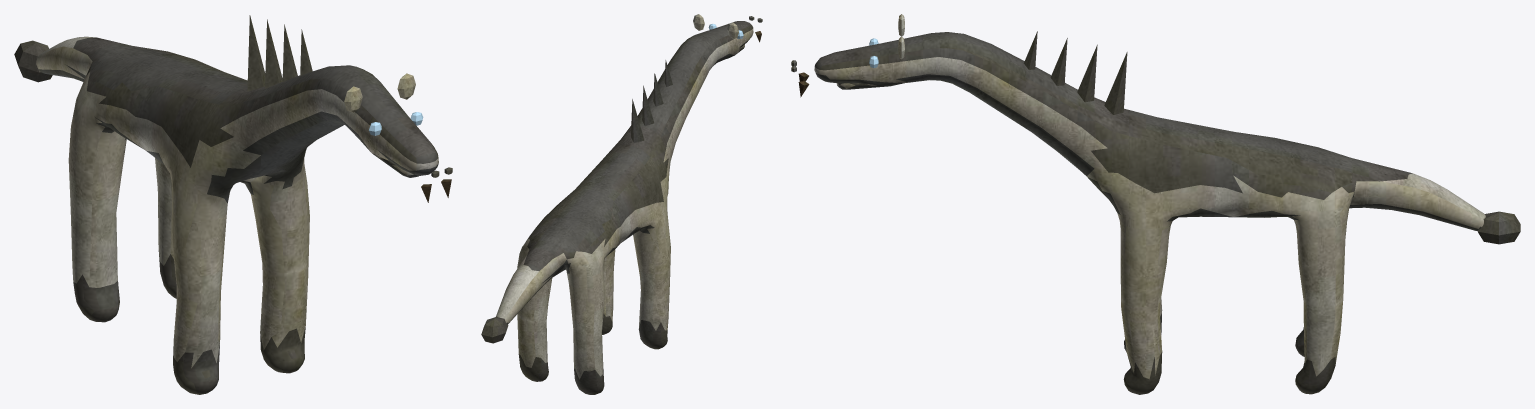
The model's file is pet_pt_jeolyeong.glb.
The picture shows the model from 3 angles, left to right: view 1: azimuth 30°, elevation 25°; view 2: azimuth 150°, elevation 25°; view 3: azimuth 270°, elevation 25°; orthographic projection. The views are drawn at different scales.
Visible parts, largest first — view 1: pet_pt_jeolyeong; view 2: pet_pt_jeolyeong; view 3: pet_pt_jeolyeong.
Part boxes in pixels (x1,y1,x2,y2): pet_pt_jeolyeong: [14, 15, 452, 394]; pet_pt_jeolyeong: [481, 14, 762, 394]; pet_pt_jeolyeong: [791, 14, 1520, 394].
Bounding box in the file's own units: 0.3894 × 1.16 × 2.19.
5 materials, 5 textured.
